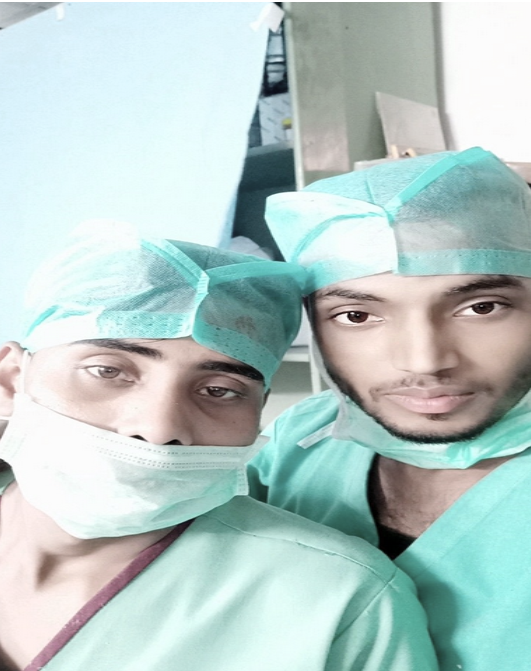mask_weared_incorrect: (3, 216, 305, 543), (271, 151, 530, 449)
